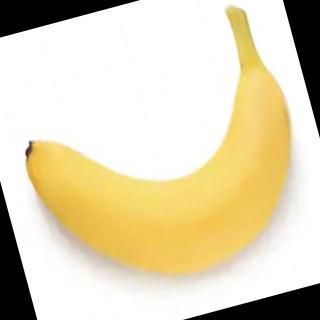banana: (14, 59, 320, 311)
